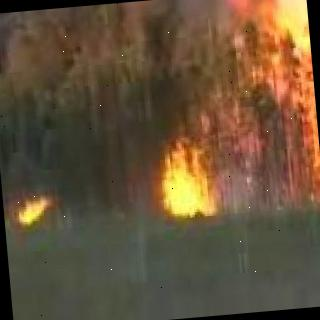fire: (154, 131, 226, 221), (286, 24, 320, 206), (13, 192, 62, 231)
